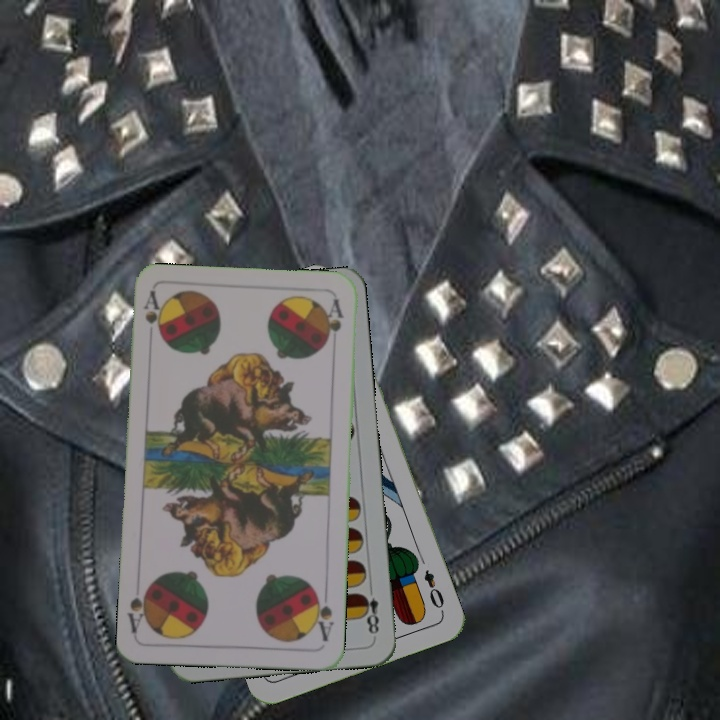E8: (357, 581, 381, 637)
EO: (420, 566, 447, 616)
SA: (310, 586, 336, 644), (139, 288, 164, 340)
